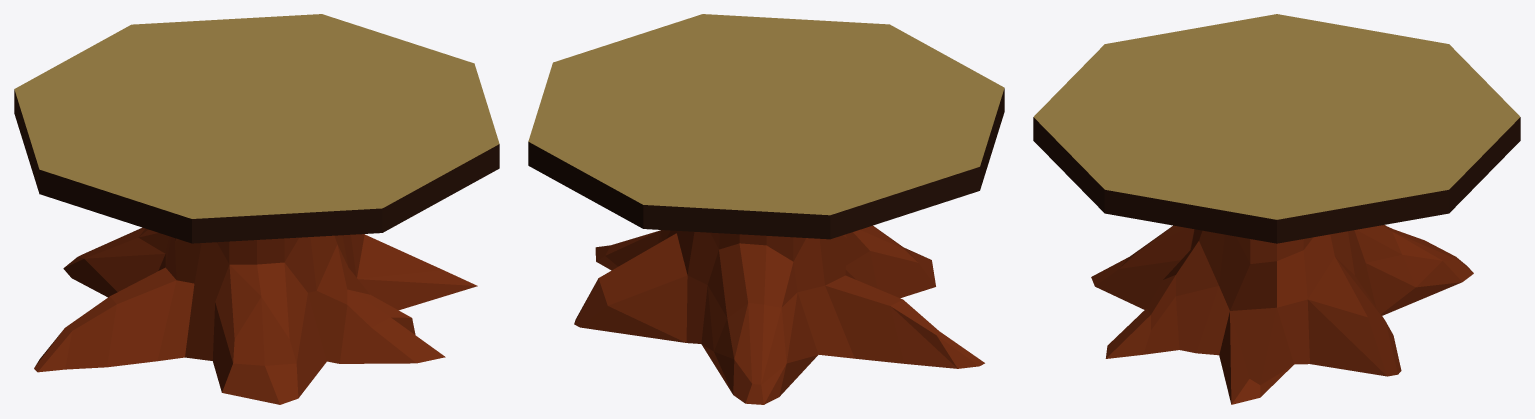
Rendered from table1.fbx.
3 views of the same model, side by side, from view 1: azimuth 30°, elevation 25°; view 2: azimuth 150°, elevation 25°; view 3: azimuth 270°, elevation 25° (orthographic). The views are drawn at different scales.
Visible parts, largest first — view 1: Cylinder002, Cylinder001; view 2: Cylinder002, Cylinder001; view 3: Cylinder002, Cylinder001.
Boxes of the visible parts, x1,y1,x2,y2 form: Cylinder002: (14,14,499,243); Cylinder001: (34,227,477,404); Cylinder002: (528,14,1004,239); Cylinder001: (574,225,984,404); Cylinder002: (1033,14,1520,243); Cylinder001: (1091,225,1473,404).
Size of the model in its own units: 49.1 by 21.45 by 48.69.
